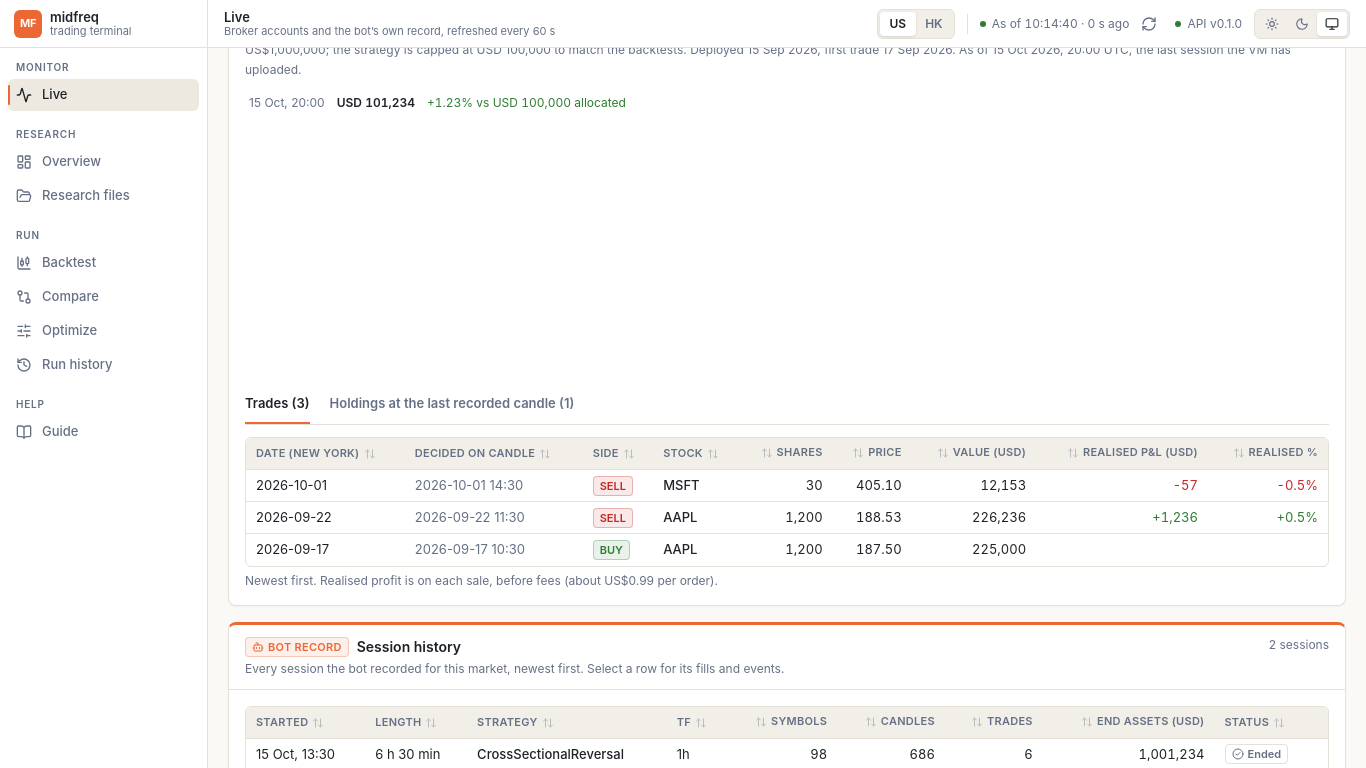
Test case: Live view › shows the forward test: KPIs, the equity chart and the trades
This screenshot has width=1366, height=768.
(page scrolled)
Expected: the table named "Forward-test trades" is shown, [246,438,1328,566]
Click the tab "Holdings at the last recorded candle (1)". click: (452, 407)
box: [330,390,574,424]
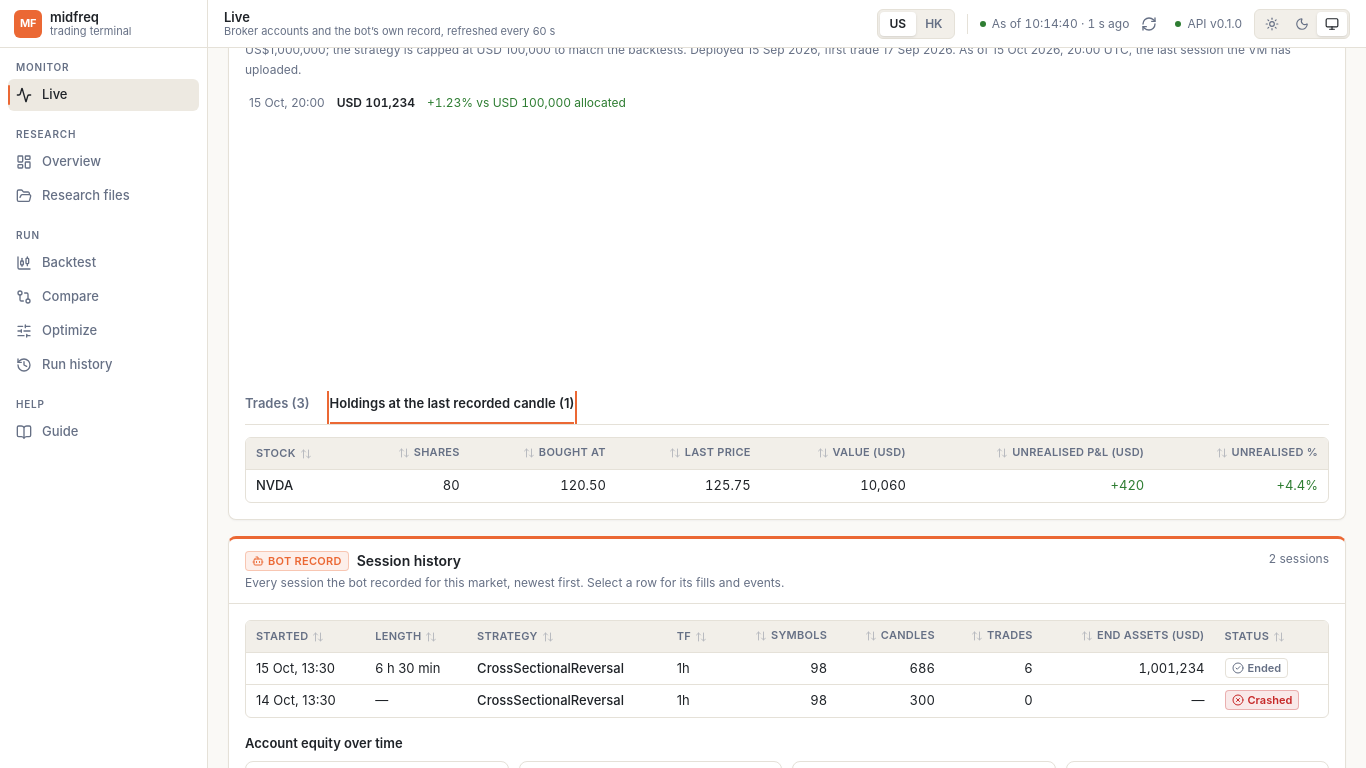
Expected: the table named "Forward-test holdings" is shown, [246,438,1328,502]
